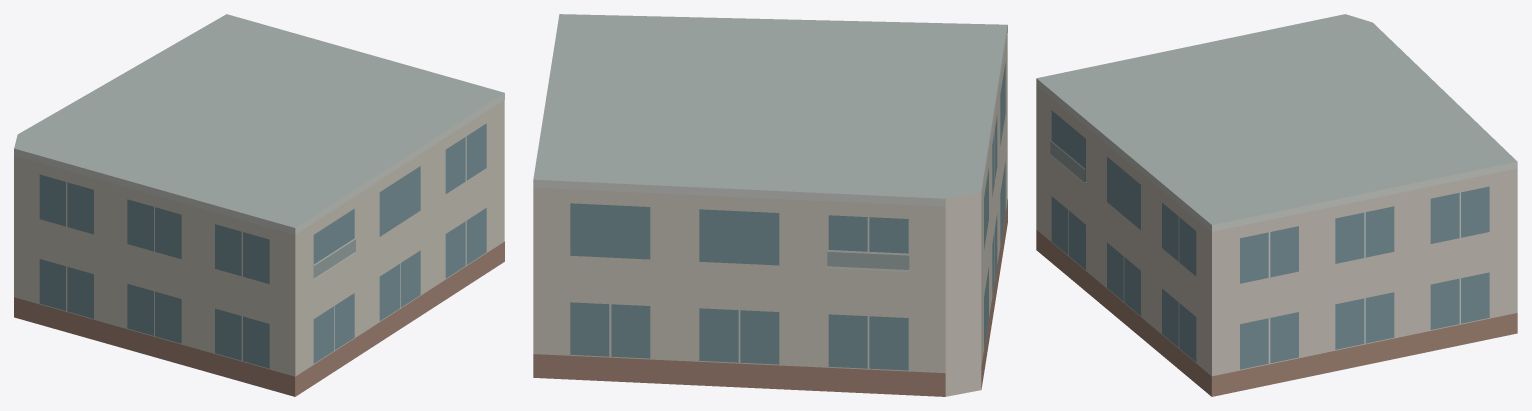
Rendered from survey-upis-32943858.glb.
3 views of the same model, side by side, from view 1: azimuth 30°, elevation 25°; view 2: azimuth 150°, elevation 25°; view 3: azimuth 270°, elevation 25° (orthographic). The views are drawn at different scales.
Visible parts, largest first — view 1: survey-upis-32943858.tmp; view 2: survey-upis-32943858.tmp; view 3: survey-upis-32943858.tmp.
Part boxes in pixels (<box>): survey-upis-32943858.tmp: <box>14,14,504,396</box>; survey-upis-32943858.tmp: <box>533,14,1007,396</box>; survey-upis-32943858.tmp: <box>1036,14,1517,396</box>.
Size of the model in its own units: 16.08 by 6.1 by 15.49.
